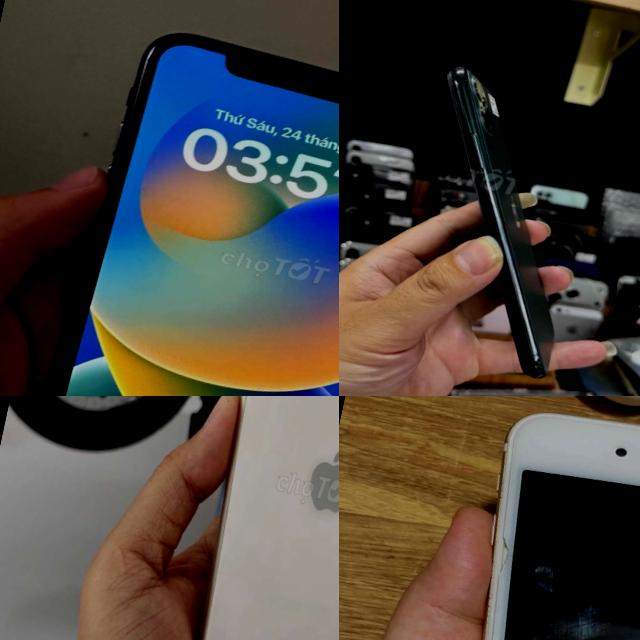physical_damage: (437, 453, 640, 640)
